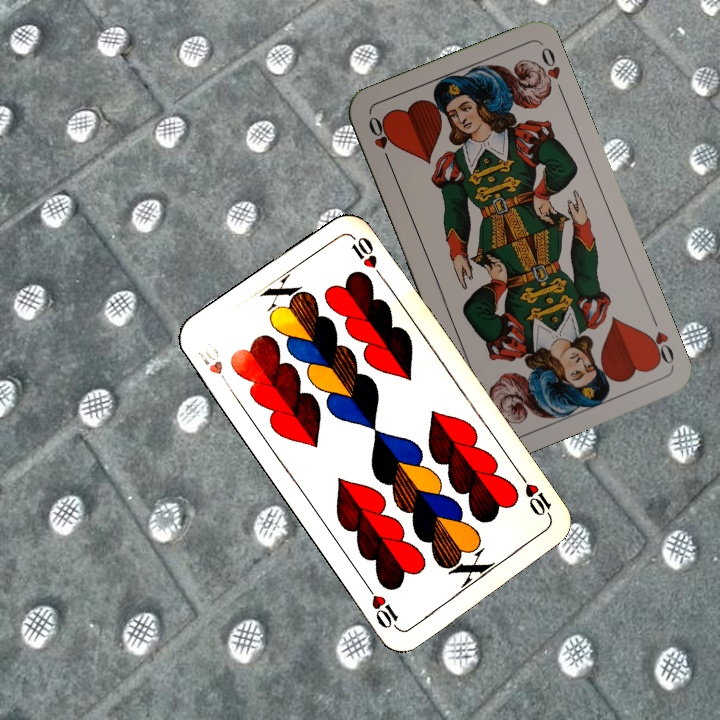H10: (193, 340, 234, 392), (515, 471, 555, 523)
HO: (640, 311, 677, 368), (364, 112, 395, 169)
